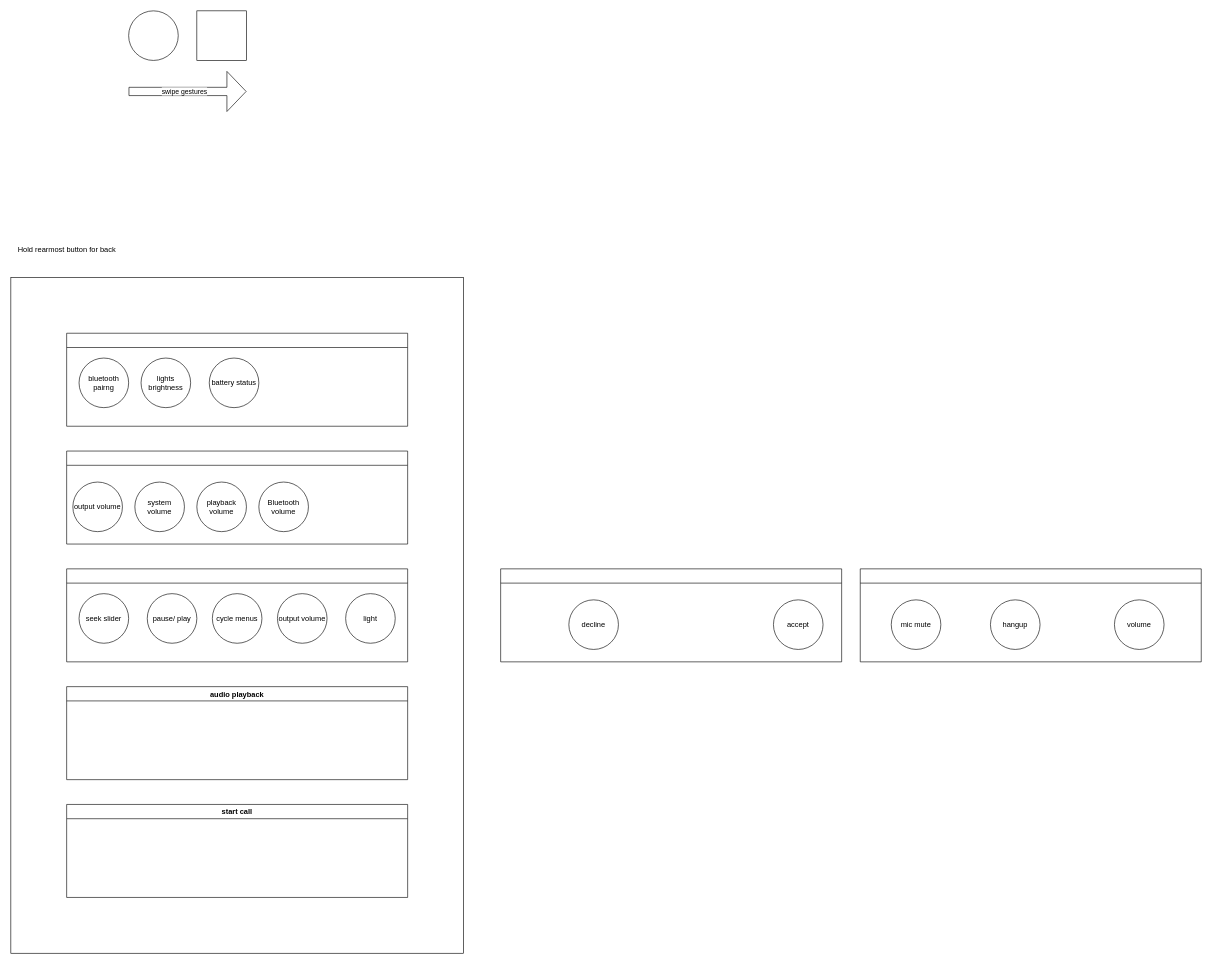
Image size: 1212x964. Some labels were removed from this diagram. The shapes that lost their labels are listed below. From the top down, each one's box as (x1, y1, x2, y2) in pixels, then its label:
(128, 10, 178, 60): button
(196, 10, 246, 60): screens, which can be swiped through
(66, 333, 408, 426): System menu
(66, 450, 408, 544): volume mux menu
(66, 568, 408, 662): Home menu
(500, 568, 842, 662): accept call
(860, 568, 1201, 662): in call
